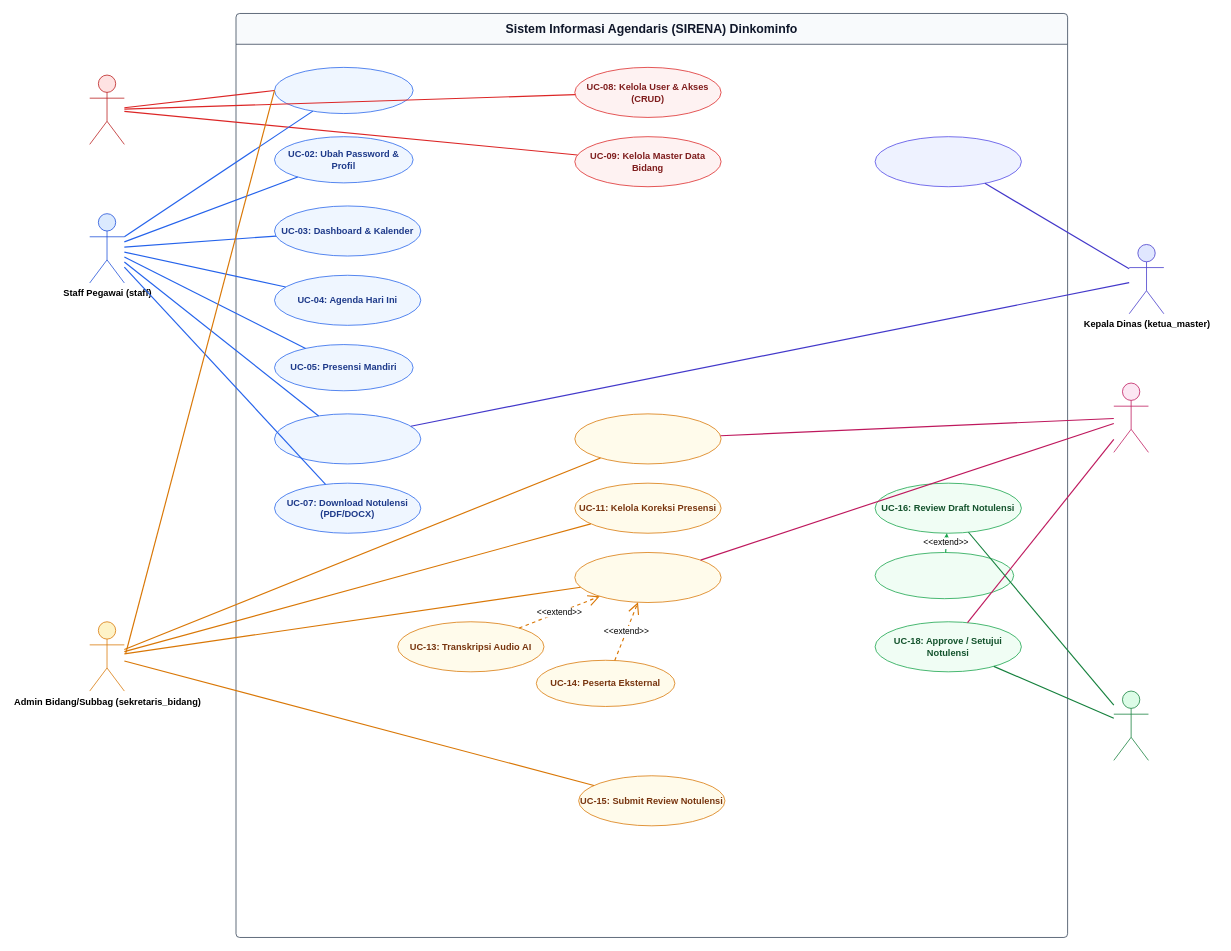
This 1231x951 diagram has some shape labels left out. Here are the shapes that lost their labels. From the top down, the box of each, then its label:
(89, 74, 124, 144): Administrator (admin)
(274, 67, 413, 114): UC-01: Login Sistem
(874, 136, 1021, 187): UC-19: Monitoring Agenda Dinas
(1113, 382, 1148, 452): Sekretaris Dinas (sekretaris_master)
(274, 413, 421, 464): UC-06: Riwayat & Arsip Notulensi
(574, 413, 721, 464): UC-10: Kelola Data Agenda (CRUD)
(574, 552, 721, 603): UC-12: Edit Draft Notulensi
(874, 552, 1014, 599): UC-17: Catat Revisi Notulensi
(1113, 690, 1148, 760): Kepala Bidang/Kasubag (ketua_bidang)
